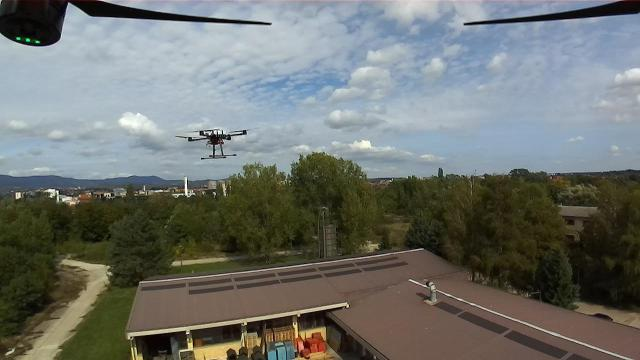drone: (0, 178, 640, 360)
